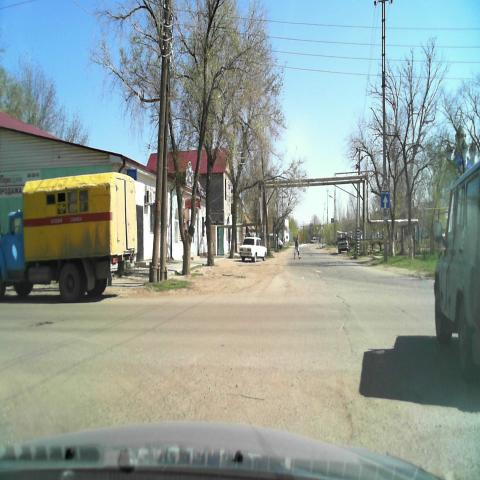1_21: (380, 178, 390, 192)
